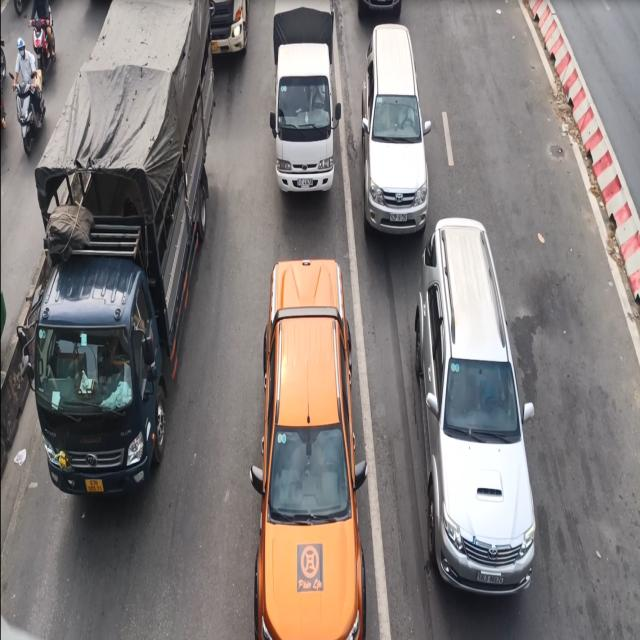car: (412, 205, 541, 620), (254, 254, 380, 640), (360, 18, 430, 241)
truck: (28, 0, 226, 512), (269, 0, 345, 205)
